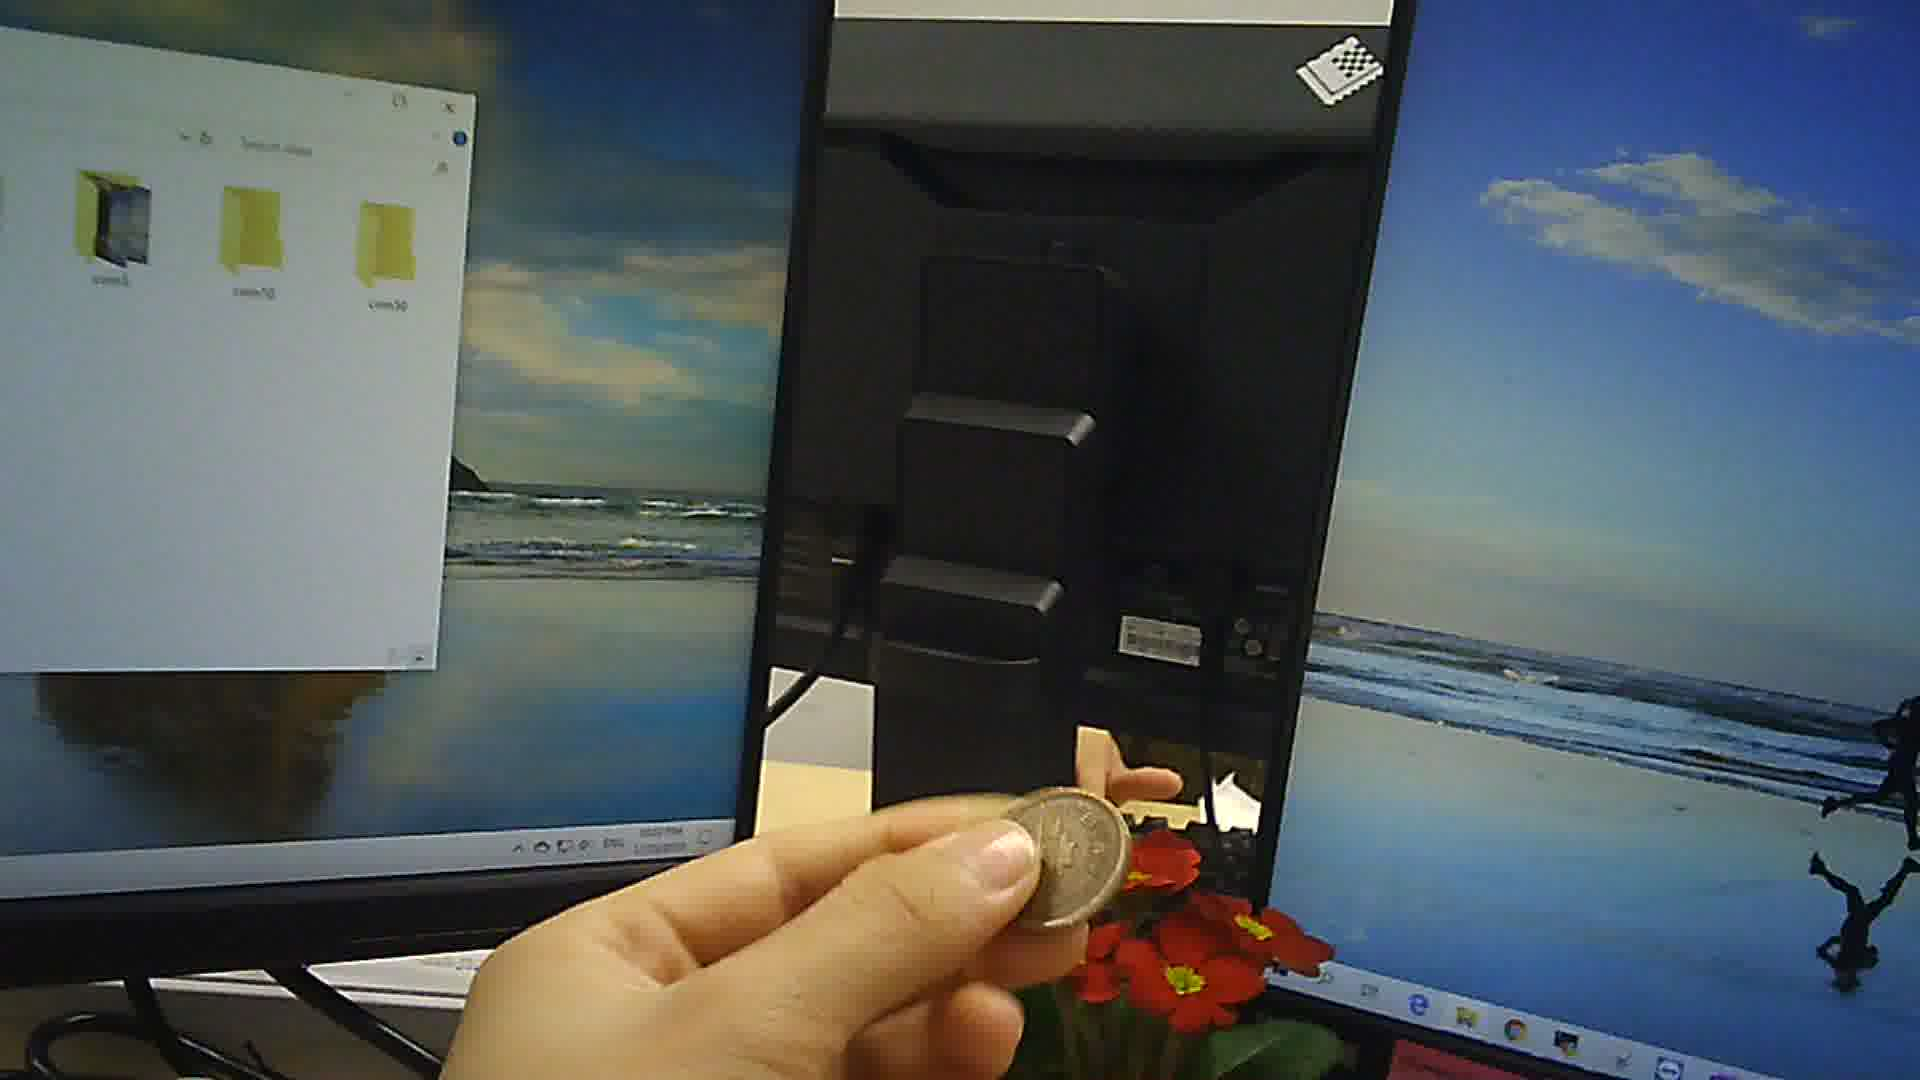10 Yen: (978, 779, 1134, 931)
